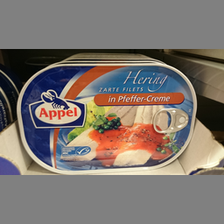fish: (17, 64, 197, 174)
